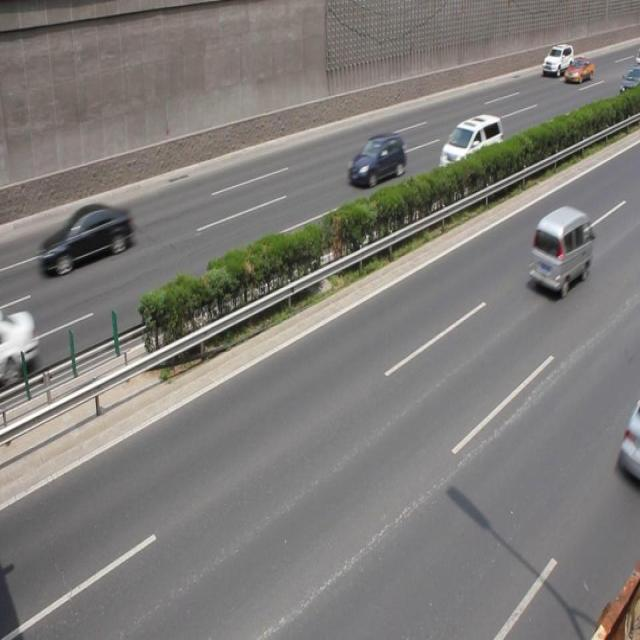car: (39, 201, 132, 278), (438, 113, 502, 180), (347, 133, 405, 190), (541, 43, 572, 78), (562, 56, 593, 84)
truck: (528, 207, 594, 299)
